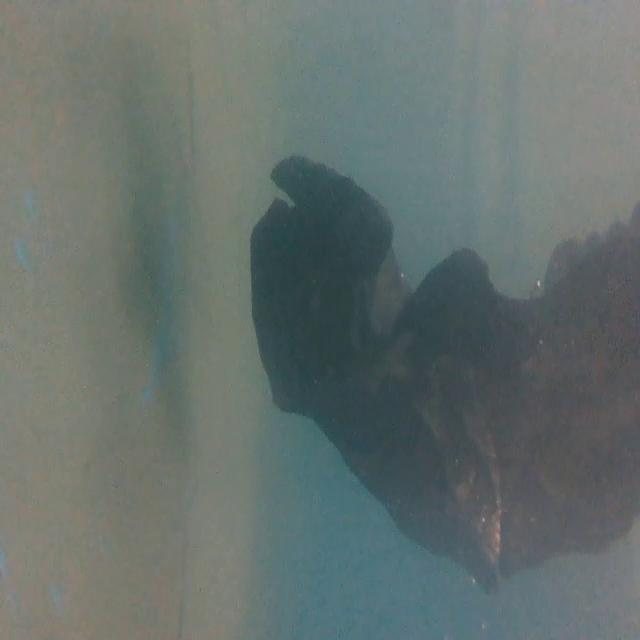plastic bags: (235, 159, 640, 577)
